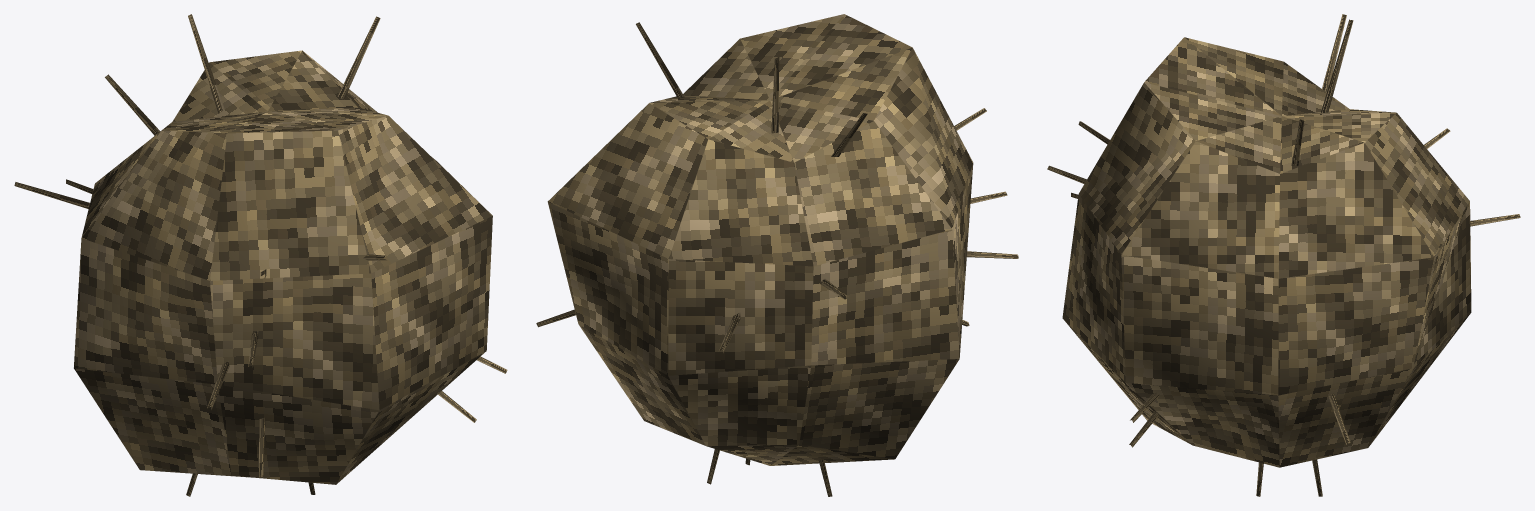
The model's file is tumbleweed.glb.
3 views of the same model, side by side, from view 1: azimuth 30°, elevation 25°; view 2: azimuth 150°, elevation 25°; view 3: azimuth 270°, elevation 25° (orthographic). The views are drawn at different scales.
Visible parts, largest first — view 1: tumbleweed; view 2: tumbleweed; view 3: tumbleweed.
Boxes of the visible parts, <box> form: tumbleweed: <box>14,14,507,496</box>; tumbleweed: <box>536,14,1018,496</box>; tumbleweed: <box>1047,14,1520,496</box>.
Size of the model in its own units: 0.9601 by 1.09 by 1.06.
Materials: 1 (1 with a texture image).
